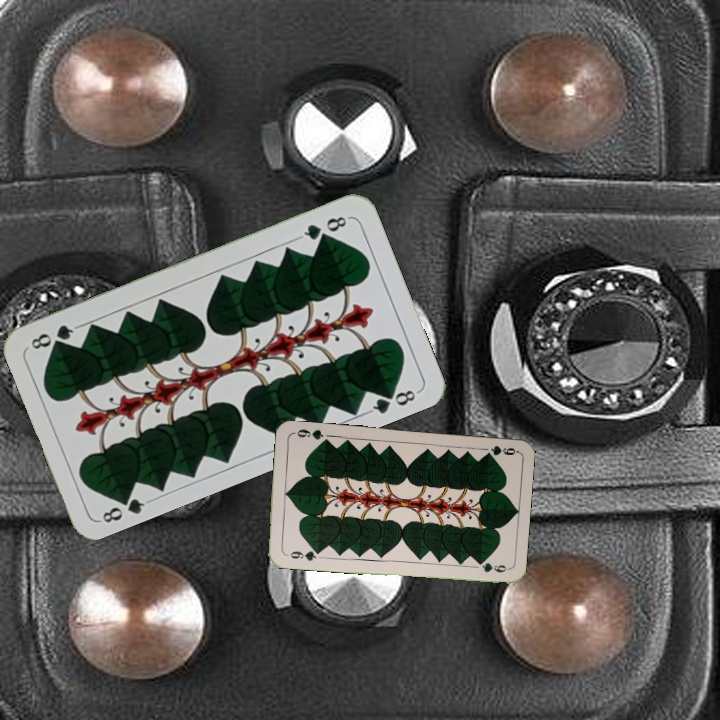G8: (96, 488, 153, 526), (295, 212, 352, 243)
G9: (281, 546, 322, 563), (481, 442, 519, 458)
